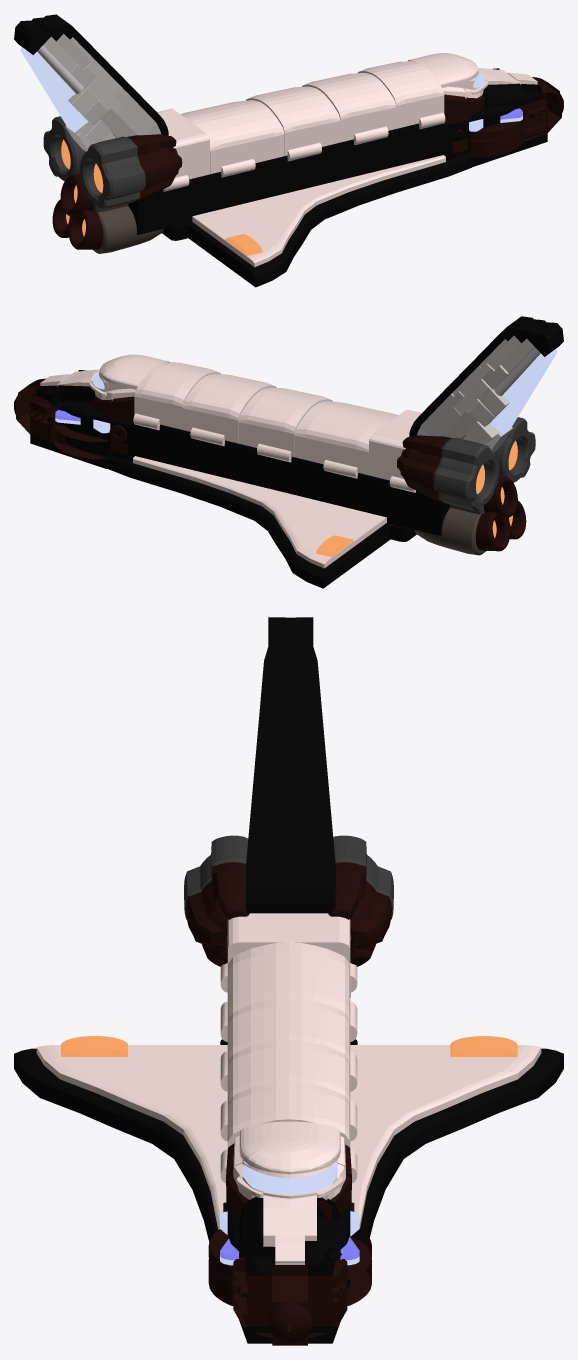
File: spaceship.glb
3 renders of one model, top to bottom at view 1: azimuth 30°, elevation 25°; view 2: azimuth 150°, elevation 25°; view 3: azimuth 270°, elevation 25°, orthographic. The views are drawn at different scales.
Visible parts, largest first — view 1: spaceship_top, spaceship_head_side_part6.003, spaceship_top_wing, spaceship_below_wing, spaceship_top_engine, spaceship_behind_wing_inner, spaceship_behind_wing_cover, spaceship_top_linker, spaceship_top_connector, spaceship_behind_wing_light, spaceship_bottom_engine_body, spaceship_top_engine.001 (+16 smaller); view 2: spaceship_top, spaceship_head_side_part6.003, spaceship_top_wing, spaceship_below_wing, spaceship_top_engine.001, spaceship_behind_wing_inner, spaceship_behind_wing_cover, spaceship_head_side_part6.004, spaceship_top_linker, spaceship_top_connector, spaceship_behind_wing_light, spaceship_bottom_engine_body.002 (+17 smaller); view 3: spaceship_top_wing, spaceship_top, spaceship_behind_wing_cover, spaceship_below_wing, spaceship_top_engine, spaceship_top_engine.001, spaceship_head_top_ceiling, spaceship_top_linker, spaceship_head_frontPats.001, spaceship_head_top_toe, spaceship_head_side_part2.001, spaceship_top_connector (+9 smaller).
Part boxes in pixels (<box>): spaceship_top: <box>181,61,444,174</box>; spaceship_head_side_part6.003: <box>128,123,444,234</box>; spaceship_top_wing: <box>192,155,445,267</box>; spaceship_below_wing: <box>162,114,547,287</box>; spaceship_top_engine: <box>80,134,182,209</box>; spaceship_behind_wing_inner: <box>43,33,161,142</box>; spaceship_behind_wing_cover: <box>14,14,168,135</box>; spaceship_top_linker: <box>157,108,209,179</box>; spaceship_top_connector: <box>163,112,445,191</box>; spaceship_behind_wing_light: <box>20,47,88,132</box>; spaceship_bottom_engine_body: <box>93,206,163,253</box>; spaceship_top_engine.001: <box>43,116,116,181</box>; spaceship_top: <box>134,362,398,475</box>; spaceship_head_side_part6.003: <box>134,424,450,535</box>; spaceship_top_wing: <box>133,456,386,568</box>; spaceship_below_wing: <box>30,416,416,588</box>; spaceship_top_engine.001: <box>397,435,499,510</box>; spaceship_behind_wing_inner: <box>417,335,534,444</box>; spaceship_behind_wing_cover: <box>409,316,563,436</box>; spaceship_head_side_part6.004: <box>62,400,134,460</box>; spaceship_top_linker: <box>369,410,421,480</box>; spaceship_top_connector: <box>133,413,415,492</box>; spaceship_behind_wing_light: <box>489,349,557,434</box>; spaceship_bottom_engine_body.002: <box>414,507,485,555</box>; spaceship_top_wing: <box>36,1045,541,1229</box>; spaceship_top: <box>227,942,350,1149</box>; spaceship_behind_wing_cover: <box>246,617,335,913</box>; spaceship_below_wing: <box>14,1039,563,1343</box>; spaceship_top_engine: <box>184,835,249,966</box>; spaceship_top_engine.001: <box>328,835,393,966</box>; spaceship_head_top_ceiling: <box>239,1121,340,1174</box>; spaceship_top_linker: <box>227,913,350,964</box>; spaceship_head_frontPats.001: <box>248,1265,332,1337</box>; spaceship_head_top_toe: <box>263,1191,316,1264</box>; spaceship_head_side_part2.001: <box>239,1197,340,1274</box>; spaceship_top_connector: <box>220,963,357,1183</box>.
Size of the model in its own units: 2.83 by 1.17 by 1.63.
15 materials, 11 textured.
